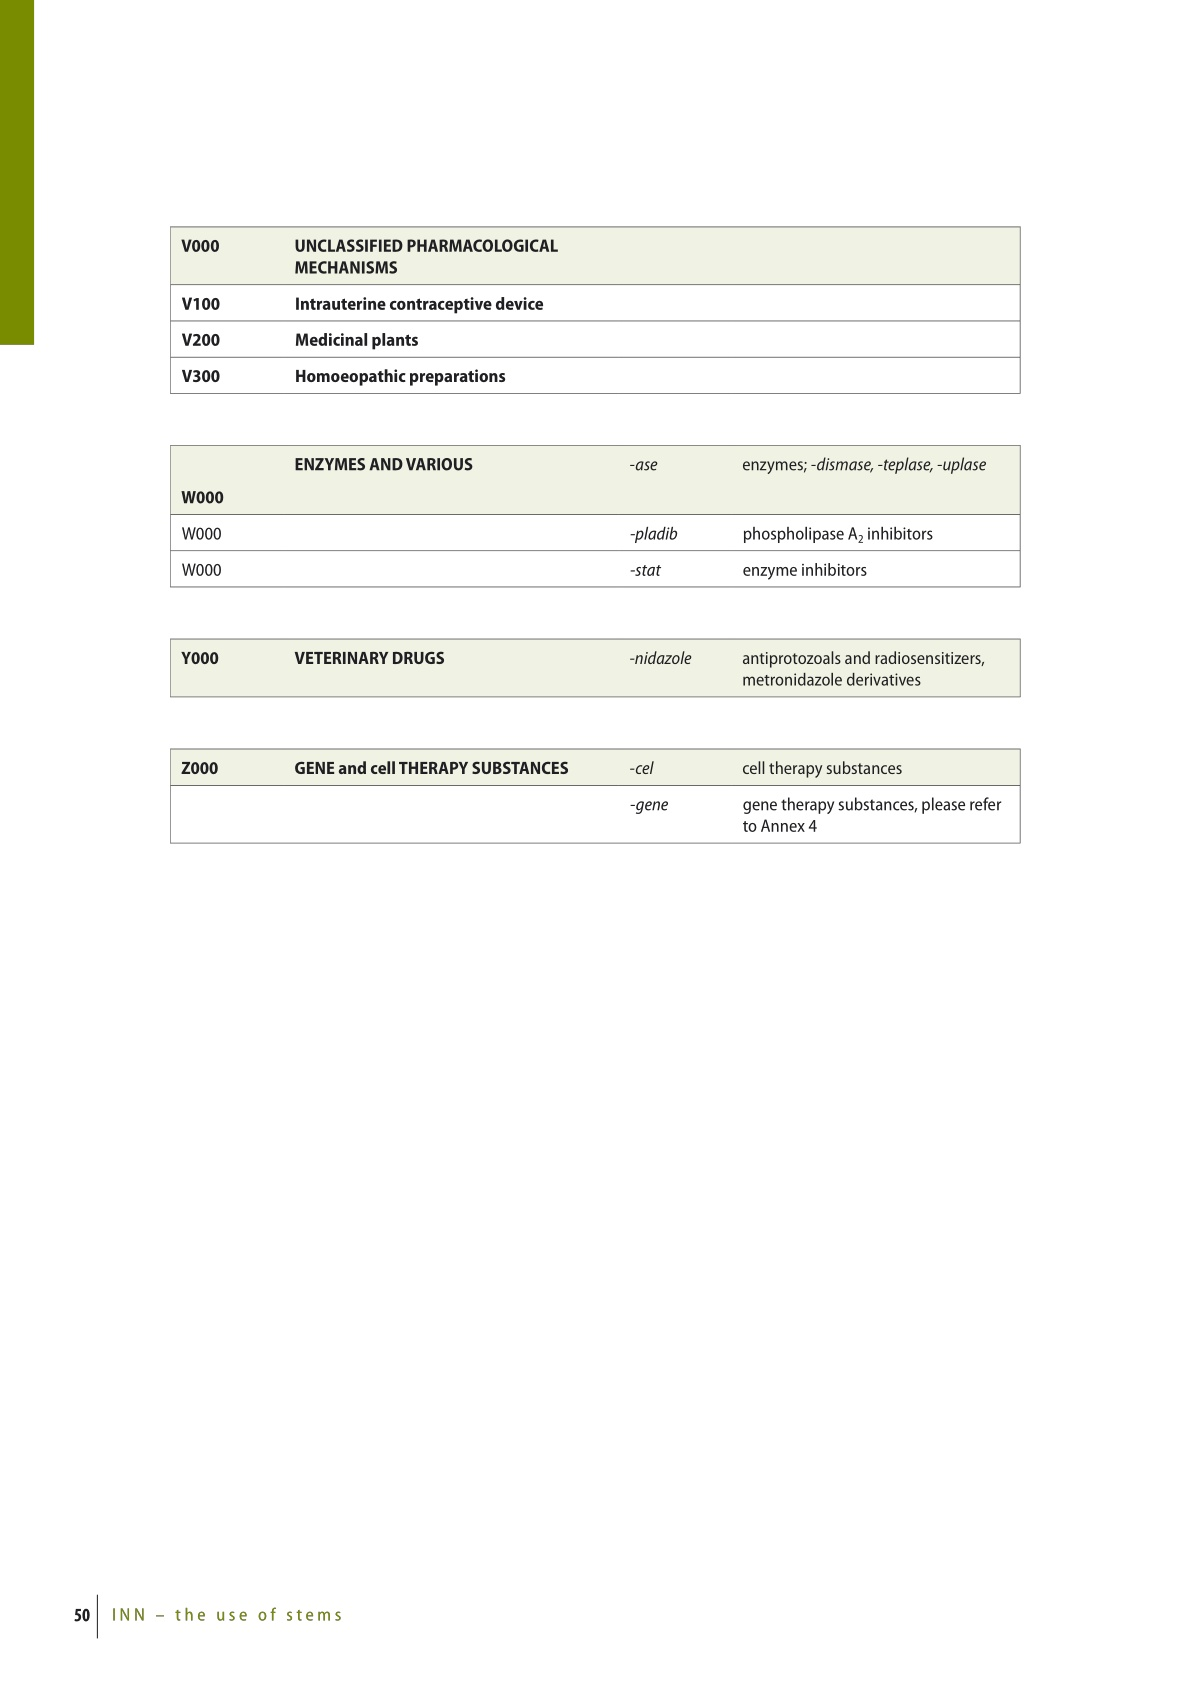partial_lined: (169, 225, 1022, 396), (169, 445, 1021, 588), (168, 747, 1021, 845), (168, 636, 1022, 698)
